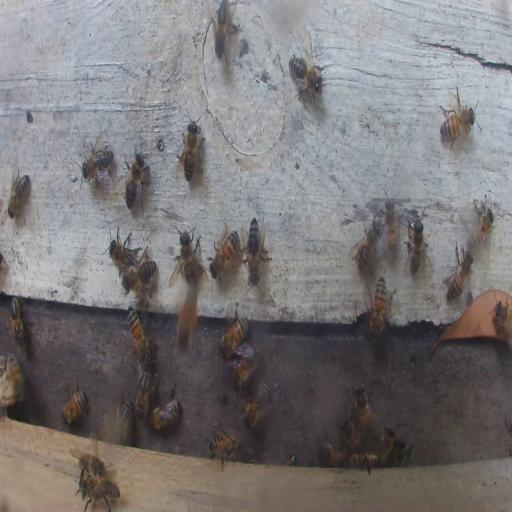nonpollenbee: (288, 42, 323, 104), (172, 224, 203, 288), (245, 214, 270, 286), (176, 113, 202, 182), (80, 135, 114, 187), (123, 151, 151, 212), (446, 242, 474, 302), (402, 212, 428, 275), (210, 226, 240, 280), (350, 218, 379, 273), (438, 100, 476, 141), (105, 226, 138, 271), (80, 476, 120, 512), (212, 0, 234, 65), (368, 273, 388, 341), (149, 389, 181, 430), (208, 432, 242, 470), (244, 380, 270, 429), (62, 378, 89, 425), (128, 308, 151, 363), (220, 312, 247, 358), (123, 258, 156, 295), (8, 168, 30, 220), (2, 352, 24, 404), (136, 366, 156, 420), (470, 204, 494, 249), (231, 348, 257, 389), (354, 384, 375, 430), (382, 194, 398, 253), (490, 300, 510, 340), (78, 450, 106, 478), (318, 440, 346, 466), (379, 424, 396, 463), (340, 418, 359, 452), (116, 400, 131, 442), (11, 296, 24, 344), (348, 452, 379, 470), (393, 439, 413, 465), (284, 452, 296, 466)
pollenbee: (175, 281, 199, 354)
